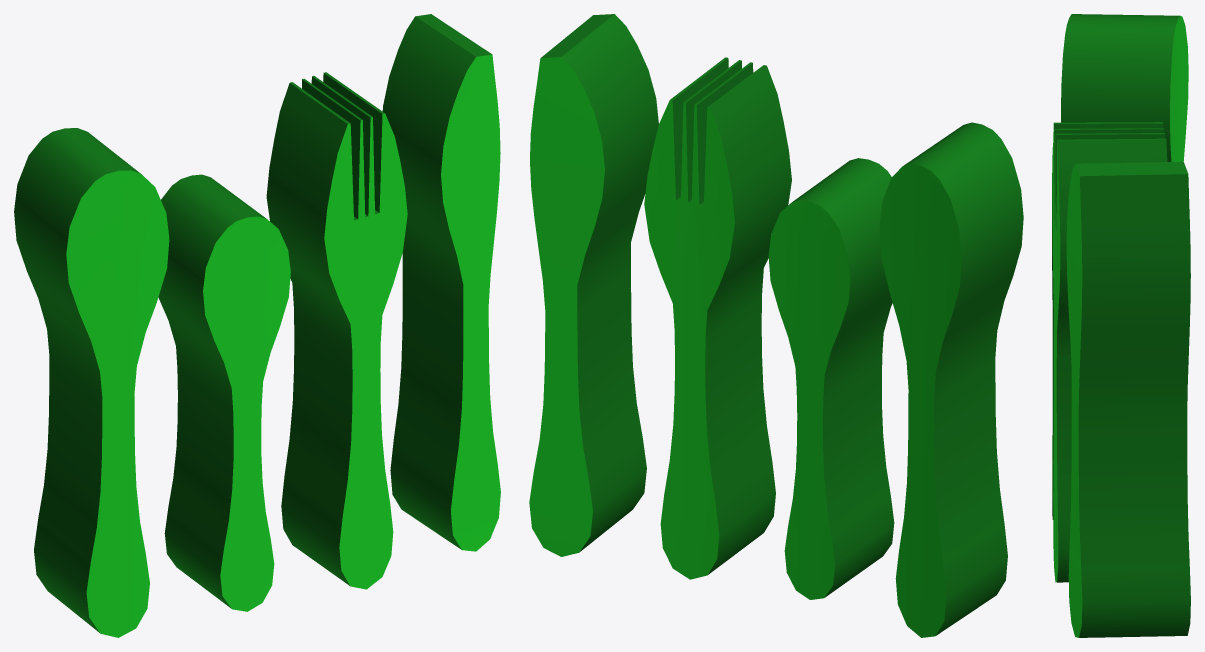
Rendered from Forks_Outer.fbx.
The picture shows the model from 3 angles, left to right: view 1: azimuth 30°, elevation 25°; view 2: azimuth 150°, elevation 25°; view 3: azimuth 270°, elevation 25°; orthographic projection. The views are drawn at different scales.
Parts seen in each view (by area): view 1: Forks_Outer; view 2: Forks_Outer; view 3: Forks_Outer.
Part boxes in pixels (left/top/right/bottom): Forks_Outer: left=14, top=14, right=500, bottom=637; Forks_Outer: left=529, top=14, right=1023, bottom=637; Forks_Outer: left=1052, top=14, right=1190, bottom=637.
Size of the model in its own units: 31.7 by 34.47 by 9.15.
